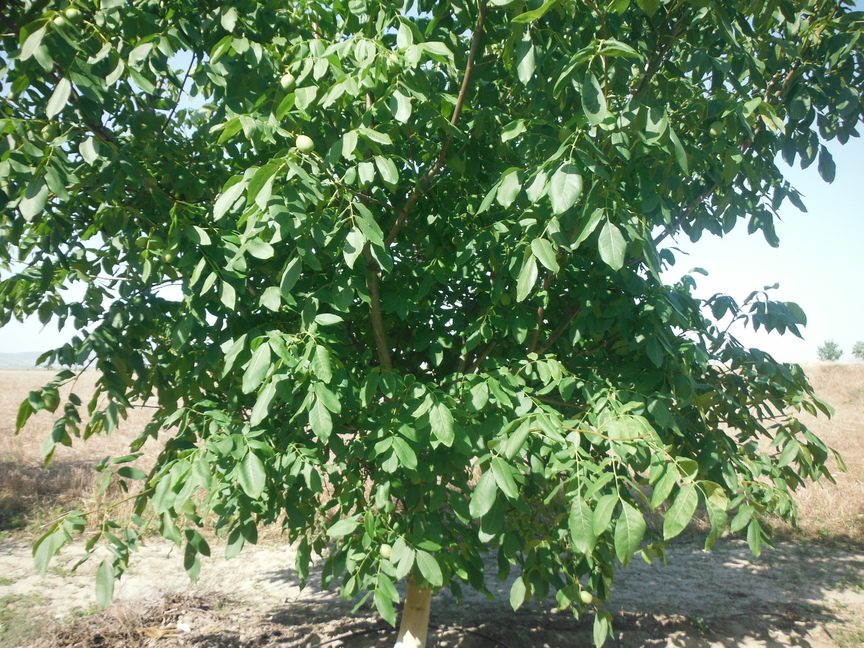walnut: (292, 130, 317, 157), (377, 537, 396, 564), (280, 66, 297, 95), (705, 119, 727, 141), (39, 120, 60, 142), (384, 52, 400, 77), (557, 120, 573, 145), (49, 13, 70, 31), (160, 246, 177, 268), (786, 415, 803, 436), (65, 6, 84, 24), (142, 143, 158, 164), (133, 233, 150, 251), (578, 589, 594, 608), (449, 231, 466, 248), (148, 234, 166, 249), (355, 410, 370, 428), (661, 355, 677, 370), (499, 291, 513, 308), (676, 361, 690, 378)
